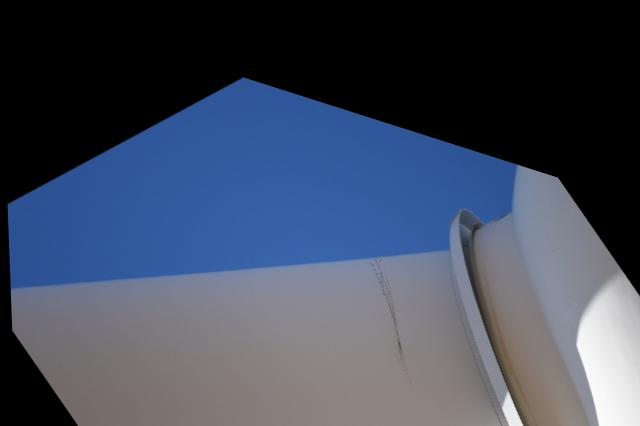damage: (331, 218, 450, 369)
